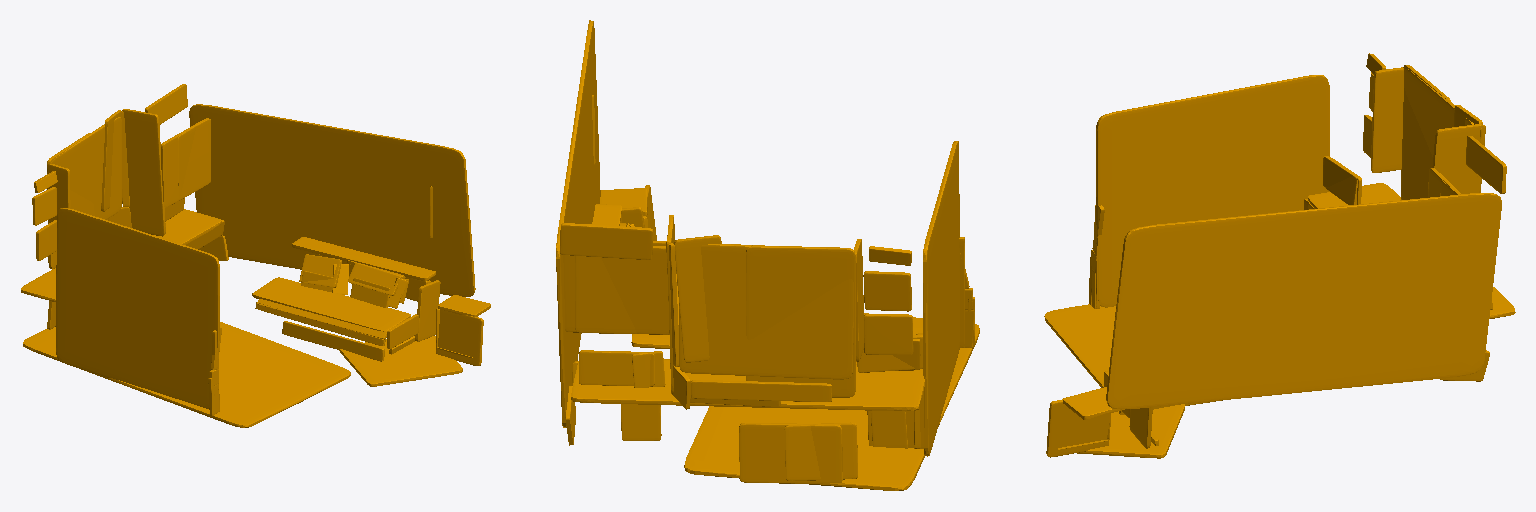
robot.urdf — scene:
<?xml version='1.0' encoding='utf-8'?>
<robot name="scene"><link name="scene_link"><visual><origin xyz="0.000000 0.000000 0.000000" rpy="0.000000 -0.000000 0.000000" /><geometry><mesh filename="part_000.obj" /></geometry></visual><collision><origin xyz="0.000000 0.000000 0.000000" rpy="0.000000 -0.000000 0.000000" /><geometry><mesh filename="part_000.obj" /></geometry></collision><visual><origin xyz="0.000000 0.000000 0.000000" rpy="0.000000 -0.000000 0.000000" /><geometry><mesh filename="part_001.obj" /></geometry></visual><collision><origin xyz="0.000000 0.000000 0.000000" rpy="0.000000 -0.000000 0.000000" /><geometry><mesh filename="part_001.obj" /></geometry></collision><visual><origin xyz="0.000000 0.000000 0.000000" rpy="0.000000 -0.000000 0.000000" /><geometry><mesh filename="part_002.obj" /></geometry></visual><collision><origin xyz="0.000000 0.000000 0.000000" rpy="0.000000 -0.000000 0.000000" /><geometry><mesh filename="part_002.obj" /></geometry></collision><visual><origin xyz="0.000000 0.000000 0.000000" rpy="0.000000 -0.000000 0.000000" /><geometry><mesh filename="part_003.obj" /></geometry></visual><collision><origin xyz="0.000000 0.000000 0.000000" rpy="0.000000 -0.000000 0.000000" /><geometry><mesh filename="part_003.obj" /></geometry></collision><visual><origin xyz="0.000000 0.000000 0.000000" rpy="0.000000 -0.000000 0.000000" /><geometry><mesh filename="part_004.obj" /></geometry></visual><collision><origin xyz="0.000000 0.000000 0.000000" rpy="0.000000 -0.000000 0.000000" /><geometry><mesh filename="part_004.obj" /></geometry></collision><visual><origin xyz="0.000000 0.000000 0.000000" rpy="0.000000 -0.000000 0.000000" /><geometry><mesh filename="part_005.obj" /></geometry></visual><collision><origin xyz="0.000000 0.000000 0.000000" rpy="0.000000 -0.000000 0.000000" /><geometry><mesh filename="part_005.obj" /></geometry></collision><visual><origin xyz="0.000000 0.000000 0.000000" rpy="0.000000 -0.000000 0.000000" /><geometry><mesh filename="part_006.obj" /></geometry></visual><collision><origin xyz="0.000000 0.000000 0.000000" rpy="0.000000 -0.000000 0.000000" /><geometry><mesh filename="part_006.obj" /></geometry></collision><visual><origin xyz="0.000000 0.000000 0.000000" rpy="0.000000 -0.000000 0.000000" /><geometry><mesh filename="part_007.obj" /></geometry></visual><collision><origin xyz="0.000000 0.000000 0.000000" rpy="0.000000 -0.000000 0.000000" /><geometry><mesh filename="part_007.obj" /></geometry></collision><visual><origin xyz="0.000000 0.000000 0.000000" rpy="0.000000 -0.000000 0.000000" /><geometry><mesh filename="part_008.obj" /></geometry></visual><collision><origin xyz="0.000000 0.000000 0.000000" rpy="0.000000 -0.000000 0.000000" /><geometry><mesh filename="part_008.obj" /></geometry></collision><visual><origin xyz="0.000000 0.000000 0.000000" rpy="0.000000 -0.000000 0.000000" /><geometry><mesh filename="part_009.obj" /></geometry></visual><collision><origin xyz="0.000000 0.000000 0.000000" rpy="0.000000 -0.000000 0.000000" /><geometry><mesh filename="part_009.obj" /></geometry></collision><visual><origin xyz="0.000000 0.000000 0.000000" rpy="0.000000 -0.000000 0.000000" /><geometry><mesh filename="part_010.obj" /></geometry></visual><collision><origin xyz="0.000000 0.000000 0.000000" rpy="0.000000 -0.000000 0.000000" /><geometry><mesh filename="part_010.obj" /></geometry></collision><visual><origin xyz="0.000000 0.000000 0.000000" rpy="0.000000 -0.000000 0.000000" /><geometry><mesh filename="part_011.obj" /></geometry></visual><collision><origin xyz="0.000000 0.000000 0.000000" rpy="0.000000 -0.000000 0.000000" /><geometry><mesh filename="part_011.obj" /></geometry></collision><visual><origin xyz="0.000000 0.000000 0.000000" rpy="0.000000 -0.000000 0.000000" /><geometry><mesh filename="part_012.obj" /></geometry></visual><collision><origin xyz="0.000000 0.000000 0.000000" rpy="0.000000 -0.000000 0.000000" /><geometry><mesh filename="part_012.obj" /></geometry></collision><visual><origin xyz="0.000000 0.000000 0.000000" rpy="0.000000 -0.000000 0.000000" /><geometry><mesh filename="part_013.obj" /></geometry></visual><collision><origin xyz="0.000000 0.000000 0.000000" rpy="0.000000 -0.000000 0.000000" /><geometry><mesh filename="part_013.obj" /></geometry></collision><visual><origin xyz="0.000000 0.000000 0.000000" rpy="0.000000 -0.000000 0.000000" /><geometry><mesh filename="part_014.obj" /></geometry></visual><collision><origin xyz="0.000000 0.000000 0.000000" rpy="0.000000 -0.000000 0.000000" /><geometry><mesh filename="part_014.obj" /></geometry></collision><visual><origin xyz="0.000000 0.000000 0.000000" rpy="0.000000 -0.000000 0.000000" /><geometry><mesh filename="part_015.obj" /></geometry></visual><collision><origin xyz="0.000000 0.000000 0.000000" rpy="0.000000 -0.000000 0.000000" /><geometry><mesh filename="part_015.obj" /></geometry></collision><visual><origin xyz="0.000000 0.000000 0.000000" rpy="0.000000 -0.000000 0.000000" /><geometry><mesh filename="part_016.obj" /></geometry></visual><collision><origin xyz="0.000000 0.000000 0.000000" rpy="0.000000 -0.000000 0.000000" /><geometry><mesh filename="part_016.obj" /></geometry></collision><visual><origin xyz="0.000000 0.000000 0.000000" rpy="0.000000 -0.000000 0.000000" /><geometry><mesh filename="part_017.obj" /></geometry></visual><collision><origin xyz="0.000000 0.000000 0.000000" rpy="0.000000 -0.000000 0.000000" /><geometry><mesh filename="part_017.obj" /></geometry></collision><visual><origin xyz="0.000000 0.000000 0.000000" rpy="0.000000 -0.000000 0.000000" /><geometry><mesh filename="part_018.obj" /></geometry></visual><collision><origin xyz="0.000000 0.000000 0.000000" rpy="0.000000 -0.000000 0.000000" /><geometry><mesh filename="part_018.obj" /></geometry></collision><visual><origin xyz="0.000000 0.000000 0.000000" rpy="0.000000 -0.000000 0.000000" /><geometry><mesh filename="part_019.obj" /></geometry></visual><collision><origin xyz="0.000000 0.000000 0.000000" rpy="0.000000 -0.000000 0.000000" /><geometry><mesh filename="part_019.obj" /></geometry></collision><visual><origin xyz="0.000000 0.000000 0.000000" rpy="0.000000 -0.000000 0.000000" /><geometry><mesh filename="part_020.obj" /></geometry></visual><collision><origin xyz="0.000000 0.000000 0.000000" rpy="0.000000 -0.000000 0.000000" /><geometry><mesh filename="part_020.obj" /></geometry></collision><visual><origin xyz="0.000000 0.000000 0.000000" rpy="0.000000 -0.000000 0.000000" /><geometry><mesh filename="part_021.obj" /></geometry></visual><collision><origin xyz="0.000000 0.000000 0.000000" rpy="0.000000 -0.000000 0.000000" /><geometry><mesh filename="part_021.obj" /></geometry></collision><visual><origin xyz="0.000000 0.000000 0.000000" rpy="0.000000 -0.000000 0.000000" /><geometry><mesh filename="part_022.obj" /></geometry></visual><collision><origin xyz="0.000000 0.000000 0.000000" rpy="0.000000 -0.000000 0.000000" /><geometry><mesh filename="part_022.obj" /></geometry></collision><visual><origin xyz="0.000000 0.000000 0.000000" rpy="0.000000 -0.000000 0.000000" /><geometry><mesh filename="part_023.obj" /></geometry></visual><collision><origin xyz="0.000000 0.000000 0.000000" rpy="0.000000 -0.000000 0.000000" /><geometry><mesh filename="part_023.obj" /></geometry></collision><visual><origin xyz="0.000000 0.000000 0.000000" rpy="0.000000 -0.000000 0.000000" /><geometry><mesh filename="part_024.obj" /></geometry></visual><collision><origin xyz="0.000000 0.000000 0.000000" rpy="0.000000 -0.000000 0.000000" /><geometry><mesh filename="part_024.obj" /></geometry></collision><visual><origin xyz="0.000000 0.000000 0.000000" rpy="0.000000 -0.000000 0.000000" /><geometry><mesh filename="part_025.obj" /></geometry></visual><collision><origin xyz="0.000000 0.000000 0.000000" rpy="0.000000 -0.000000 0.000000" /><geometry><mesh filename="part_025.obj" /></geometry></collision><visual><origin xyz="0.000000 0.000000 0.000000" rpy="0.000000 -0.000000 0.000000" /><geometry><mesh filename="part_026.obj" /></geometry></visual><collision><origin xyz="0.000000 0.000000 0.000000" rpy="0.000000 -0.000000 0.000000" /><geometry><mesh filename="part_026.obj" /></geometry></collision><visual><origin xyz="0.000000 0.000000 0.000000" rpy="0.000000 -0.000000 0.000000" /><geometry><mesh filename="part_027.obj" /></geometry></visual><collision><origin xyz="0.000000 0.000000 0.000000" rpy="0.000000 -0.000000 0.000000" /><geometry><mesh filename="part_027.obj" /></geometry></collision><visual><origin xyz="0.000000 0.000000 0.000000" rpy="0.000000 -0.000000 0.000000" /><geometry><mesh filename="part_028.obj" /></geometry></visual><collision><origin xyz="0.000000 0.000000 0.000000" rpy="0.000000 -0.000000 0.000000" /><geometry><mesh filename="part_028.obj" /></geometry></collision><visual><origin xyz="0.000000 0.000000 0.000000" rpy="0.000000 -0.000000 0.000000" /><geometry><mesh filename="part_029.obj" /></geometry></visual><collision><origin xyz="0.000000 0.000000 0.000000" rpy="0.000000 -0.000000 0.000000" /><geometry><mesh filename="part_029.obj" /></geometry></collision><visual><origin xyz="0.000000 0.000000 0.000000" rpy="0.000000 -0.000000 0.000000" /><geometry><mesh filename="part_030.obj" /></geometry></visual><collision><origin xyz="0.000000 0.000000 0.000000" rpy="0.000000 -0.000000 0.000000" /><geometry><mesh filename="part_030.obj" /></geometry></collision><visual><origin xyz="0.000000 0.000000 0.000000" rpy="0.000000 -0.000000 0.000000" /><geometry><mesh filename="part_031.obj" /></geometry></visual><collision><origin xyz="0.000000 0.000000 0.000000" rpy="0.000000 -0.000000 0.000000" /><geometry><mesh filename="part_031.obj" /></geometry></collision><visual><origin xyz="0.000000 0.000000 0.000000" rpy="0.000000 -0.000000 0.000000" /><geometry><mesh filename="part_032.obj" /></geometry></visual><collision><origin xyz="0.000000 0.000000 0.000000" rpy="0.000000 -0.000000 0.000000" /><geometry><mesh filename="part_032.obj" /></geometry></collision><visual><origin xyz="0.000000 0.000000 0.000000" rpy="0.000000 -0.000000 0.000000" /><geometry><mesh filename="part_033.obj" /></geometry></visual><collision><origin xyz="0.000000 0.000000 0.000000" rpy="0.000000 -0.000000 0.000000" /><geometry><mesh filename="part_033.obj" /></geometry></collision><visual><origin xyz="0.000000 0.000000 0.000000" rpy="0.000000 -0.000000 0.000000" /><geometry><mesh filename="part_034.obj" /></geometry></visual><collision><origin xyz="0.000000 0.000000 0.000000" rpy="0.000000 -0.000000 0.000000" /><geometry><mesh filename="part_034.obj" /></geometry></collision><visual><origin xyz="0.000000 0.000000 0.000000" rpy="0.000000 -0.000000 0.000000" /><geometry><mesh filename="part_035.obj" /></geometry></visual><collision><origin xyz="0.000000 0.000000 0.000000" rpy="0.000000 -0.000000 0.000000" /><geometry><mesh filename="part_035.obj" /></geometry></collision><visual><origin xyz="0.000000 0.000000 0.000000" rpy="0.000000 -0.000000 0.000000" /><geometry><mesh filename="part_036.obj" /></geometry></visual><collision><origin xyz="0.000000 0.000000 0.000000" rpy="0.000000 -0.000000 0.000000" /><geometry><mesh filename="part_036.obj" /></geometry></collision><visual><origin xyz="0.000000 0.000000 0.000000" rpy="0.000000 -0.000000 0.000000" /><geometry><mesh filename="part_037.obj" /></geometry></visual><collision><origin xyz="0.000000 0.000000 0.000000" rpy="0.000000 -0.000000 0.000000" /><geometry><mesh filename="part_037.obj" /></geometry></collision><visual><origin xyz="0.000000 0.000000 0.000000" rpy="0.000000 -0.000000 0.000000" /><geometry><mesh filename="part_038.obj" /></geometry></visual><collision><origin xyz="0.000000 0.000000 0.000000" rpy="0.000000 -0.000000 0.000000" /><geometry><mesh filename="part_038.obj" /></geometry></collision><visual><origin xyz="0.000000 0.000000 0.000000" rpy="0.000000 -0.000000 0.000000" /><geometry><mesh filename="part_039.obj" /></geometry></visual><collision><origin xyz="0.000000 0.000000 0.000000" rpy="0.000000 -0.000000 0.000000" /><geometry><mesh filename="part_039.obj" /></geometry></collision><visual><origin xyz="0.000000 0.000000 0.000000" rpy="0.000000 -0.000000 0.000000" /><geometry><mesh filename="part_040.obj" /></geometry></visual><collision><origin xyz="0.000000 0.000000 0.000000" rpy="0.000000 -0.000000 0.000000" /><geometry><mesh filename="part_040.obj" /></geometry></collision><visual><origin xyz="0.000000 0.000000 0.000000" rpy="0.000000 -0.000000 0.000000" /><geometry><mesh filename="part_041.obj" /></geometry></visual><collision><origin xyz="0.000000 0.000000 0.000000" rpy="0.000000 -0.000000 0.000000" /><geometry><mesh filename="part_041.obj" /></geometry></collision><visual><origin xyz="0.000000 0.000000 0.000000" rpy="0.000000 -0.000000 0.000000" /><geometry><mesh filename="part_042.obj" /></geometry></visual><collision><origin xyz="0.000000 0.000000 0.000000" rpy="0.000000 -0.000000 0.000000" /><geometry><mesh filename="part_042.obj" /></geometry></collision><visual><origin xyz="0.000000 0.000000 0.000000" rpy="0.000000 -0.000000 0.000000" /><geometry><mesh filename="part_043.obj" /></geometry></visual><collision><origin xyz="0.000000 0.000000 0.000000" rpy="0.000000 -0.000000 0.000000" /><geometry><mesh filename="part_043.obj" /></geometry></collision><visual><origin xyz="0.000000 0.000000 0.000000" rpy="0.000000 -0.000000 0.000000" /><geometry><mesh filename="part_044.obj" /></geometry></visual><collision><origin xyz="0.000000 0.000000 0.000000" rpy="0.000000 -0.000000 0.000000" /><geometry><mesh filename="part_044.obj" /></geometry></collision><visual><origin xyz="0.000000 0.000000 0.000000" rpy="0.000000 -0.000000 0.000000" /><geometry><mesh filename="part_045.obj" /></geometry></visual><collision><origin xyz="0.000000 0.000000 0.000000" rpy="0.000000 -0.000000 0.000000" /><geometry><mesh filename="part_045.obj" /></geometry></collision><visual><origin xyz="0.000000 0.000000 0.000000" rpy="0.000000 -0.000000 0.000000" /><geometry><mesh filename="part_046.obj" /></geometry></visual><collision><origin xyz="0.000000 0.000000 0.000000" rpy="0.000000 -0.000000 0.000000" /><geometry><mesh filename="part_046.obj" /></geometry></collision><visual><origin xyz="0.000000 0.000000 0.000000" rpy="0.000000 -0.000000 0.000000" /><geometry><mesh filename="part_047.obj" /></geometry></visual><collision><origin xyz="0.000000 0.000000 0.000000" rpy="0.000000 -0.000000 0.000000" /><geometry><mesh filename="part_047.obj" /></geometry></collision><visual><origin xyz="0.000000 0.000000 0.000000" rpy="0.000000 -0.000000 0.000000" /><geometry><mesh filename="part_048.obj" /></geometry></visual><collision><origin xyz="0.000000 0.000000 0.000000" rpy="0.000000 -0.000000 0.000000" /><geometry><mesh filename="part_048.obj" /></geometry></collision><visual><origin xyz="0.000000 0.000000 0.000000" rpy="0.000000 -0.000000 0.000000" /><geometry><mesh filename="part_049.obj" /></geometry></visual><collision><origin xyz="0.000000 0.000000 0.000000" rpy="0.000000 -0.000000 0.000000" /><geometry><mesh filename="part_049.obj" /></geometry></collision><visual><origin xyz="0.000000 0.000000 0.000000" rpy="0.000000 -0.000000 0.000000" /><geometry><mesh filename="part_050.obj" /></geometry></visual><collision><origin xyz="0.000000 0.000000 0.000000" rpy="0.000000 -0.000000 0.000000" /><geometry><mesh filename="part_050.obj" /></geometry></collision><visual><origin xyz="0.000000 0.000000 0.000000" rpy="0.000000 -0.000000 0.000000" /><geometry><mesh filename="part_051.obj" /></geometry></visual><collision><origin xyz="0.000000 0.000000 0.000000" rpy="0.000000 -0.000000 0.000000" /><geometry><mesh filename="part_051.obj" /></geometry></collision><visual><origin xyz="0.000000 0.000000 0.000000" rpy="0.000000 -0.000000 0.000000" /><geometry><mesh filename="part_052.obj" /></geometry></visual><collision><origin xyz="0.000000 0.000000 0.000000" rpy="0.000000 -0.000000 0.000000" /><geometry><mesh filename="part_052.obj" /></geometry></collision><visual><origin xyz="0.000000 0.000000 0.000000" rpy="0.000000 -0.000000 0.000000" /><geometry><mesh filename="part_053.obj" /></geometry></visual><collision><origin xyz="0.000000 0.000000 0.000000" rpy="0.000000 -0.000000 0.000000" /><geometry><mesh filename="part_053.obj" /></geometry></collision><visual><origin xyz="0.000000 0.000000 0.000000" rpy="0.000000 -0.000000 0.000000" /><geometry><mesh filename="part_054.obj" /></geometry></visual><collision><origin xyz="0.000000 0.000000 0.000000" rpy="0.000000 -0.000000 0.000000" /><geometry><mesh filename="part_054.obj" /></geometry></collision><visual><origin xyz="0.000000 0.000000 0.000000" rpy="0.000000 -0.000000 0.000000" /><geometry><mesh filename="part_055.obj" /></geometry></visual><collision><origin xyz="0.000000 0.000000 0.000000" rpy="0.000000 -0.000000 0.000000" /><geometry><mesh filename="part_055.obj" /></geometry></collision><visual><origin xyz="0.000000 0.000000 0.000000" rpy="0.000000 -0.000000 0.000000" /><geometry><mesh filename="part_056.obj" /></geometry></visual><collision><origin xyz="0.000000 0.000000 0.000000" rpy="0.000000 -0.000000 0.000000" /><geometry><mesh filename="part_056.obj" /></geometry></collision><visual><origin xyz="0.000000 0.000000 0.000000" rpy="0.000000 -0.000000 0.000000" /><geometry><mesh filename="part_057.obj" /></geometry></visual><collision><origin xyz="0.000000 0.000000 0.000000" rpy="0.000000 -0.000000 0.000000" /><geometry><mesh filename="part_057.obj" /></geometry></collision><visual><origin xyz="0.000000 0.000000 0.000000" rpy="0.000000 -0.000000 0.000000" /><geometry><mesh filename="part_058.obj" /></geometry></visual><collision><origin xyz="0.000000 0.000000 0.000000" rpy="0.000000 -0.000000 0.000000" /><geometry><mesh filename="part_058.obj" /></geometry></collision><visual><origin xyz="0.000000 0.000000 0.000000" rpy="0.000000 -0.000000 0.000000" /><geometry><mesh filename="part_059.obj" /></geometry></visual><collision><origin xyz="0.000000 0.000000 0.000000" rpy="0.000000 -0.000000 0.000000" /><geometry><mesh filename="part_059.obj" /></geometry></collision><visual><origin xyz="0.000000 0.000000 0.000000" rpy="0.000000 -0.000000 0.000000" /><geometry><mesh filename="part_060.obj" /></geometry></visual><collision><origin xyz="0.000000 0.000000 0.000000" rpy="0.000000 -0.000000 0.000000" /><geometry><mesh filename="part_060.obj" /></geometry></collision><visual><origin xyz="0.000000 0.000000 0.000000" rpy="0.000000 -0.000000 0.000000" /><geometry><mesh filename="part_061.obj" /></geometry></visual><collision><origin xyz="0.000000 0.000000 0.000000" rpy="0.000000 -0.000000 0.000000" /><geometry><mesh filename="part_061.obj" /></geometry></collision><visual><origin xyz="0.000000 0.000000 0.000000" rpy="0.000000 -0.000000 0.000000" /><geometry><mesh filename="part_062.obj" /></geometry></visual><collision><origin xyz="0.000000 0.000000 0.000000" rpy="0.000000 -0.000000 0.000000" /><geometry><mesh filename="part_062.obj" /></geometry></collision><visual><origin xyz="0.000000 0.000000 0.000000" rpy="0.000000 -0.000000 0.000000" /><geometry><mesh filename="part_063.obj" /></geometry></visual><collision><origin xyz="0.000000 0.000000 0.000000" rpy="0.000000 -0.000000 0.000000" /><geometry><mesh filename="part_063.obj" /></geometry></collision><visual><origin xyz="0.000000 0.000000 0.000000" rpy="0.000000 -0.000000 0.000000" /><geometry><mesh filename="part_064.obj" /></geometry></visual><collision><origin xyz="0.000000 0.000000 0.000000" rpy="0.000000 -0.000000 0.000000" /><geometry><mesh filename="part_064.obj" /></geometry></collision><visual><origin xyz="0.000000 0.000000 0.000000" rpy="0.000000 -0.000000 0.000000" /><geometry><mesh filename="part_065.obj" /></geometry></visual><collision><origin xyz="0.000000 0.000000 0.000000" rpy="0.000000 -0.000000 0.000000" /><geometry><mesh filename="part_065.obj" /></geometry></collision><visual><origin xyz="0.000000 0.000000 0.000000" rpy="0.000000 -0.000000 0.000000" /><geometry><mesh filename="part_066.obj" /></geometry></visual><collision><origin xyz="0.000000 0.000000 0.000000" rpy="0.000000 -0.000000 0.000000" /><geometry><mesh filename="part_066.obj" /></geometry></collision></link></robot>

--- Render facts (derived) ---
3 views of the same robot in one strip: view 1: azimuth 30°, elevation 25°; view 2: azimuth 150°, elevation 25°; view 3: azimuth 270°, elevation 25° (orthographic).
Model scene with 1 links and 0 joints (none), rooted at scene_link, posed every joint at zero.
Visible links, largest first — view 1: scene_link; view 2: scene_link; view 3: scene_link.
Link boxes in pixels (box(x1,y1,x2,y2)): scene_link: box(21, 84, 490, 427); scene_link: box(556, 20, 979, 490); scene_link: box(1044, 53, 1515, 458).
Size in the robot's own frame: 4.43 by 4.09 by 2.3 metres.
67 mesh visuals loaded from 67 distinct referenced files (67 OBJ).